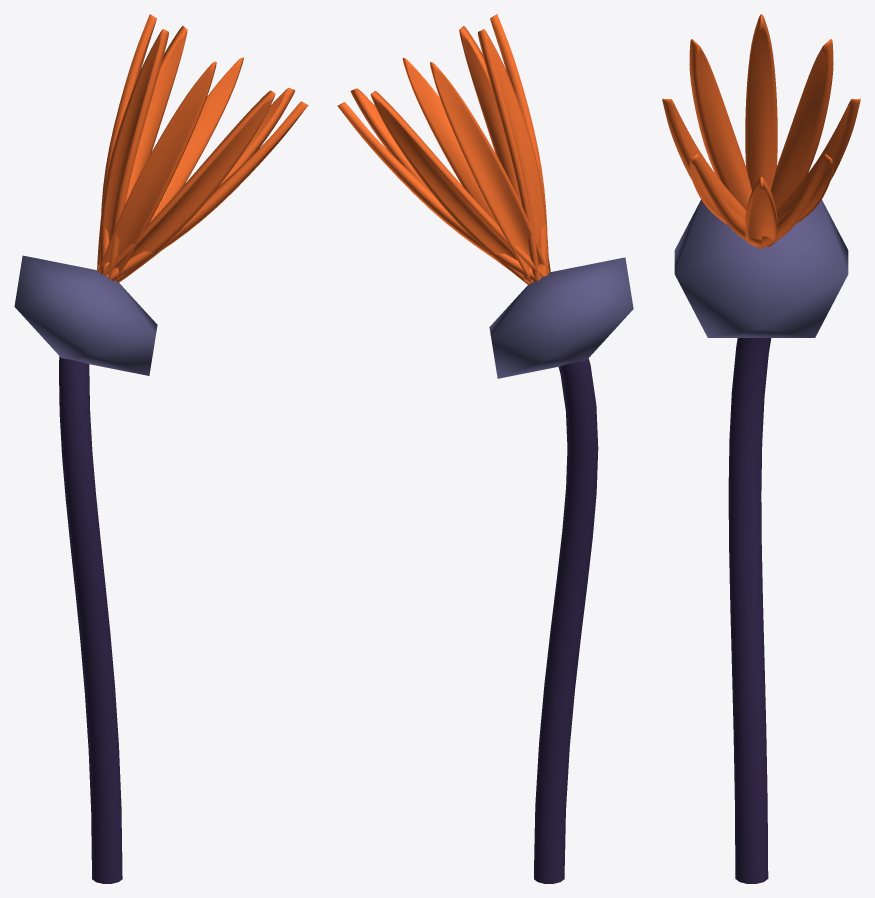
Rendered from orange-flower.glb.
3 renders of one model, left to right at view 1: azimuth 30°, elevation 25°; view 2: azimuth 150°, elevation 25°; view 3: azimuth 270°, elevation 25°, orthographic. The views are drawn at different scales.
Visible parts, largest first — view 1: BezierCircle; view 2: BezierCircle; view 3: BezierCircle.
Boxes of the visible parts, x1=… form: BezierCircle: x1=14, y1=14, x2=308, y2=883; BezierCircle: x1=337, y1=14, x2=633, y2=883; BezierCircle: x1=662, y1=14, x2=860, y2=883.
Bounding box in the file's own units: 3.15 × 8.89 × 1.79.
